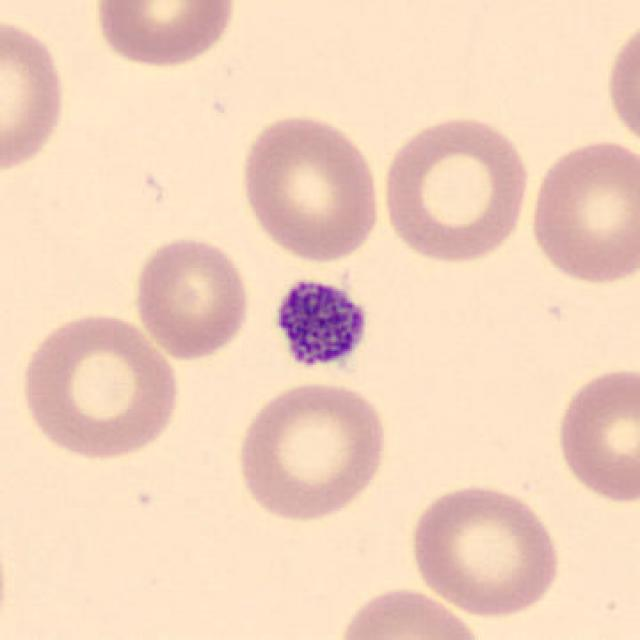Platelets: (267, 272, 373, 379)
RBC: (16, 306, 185, 464), (377, 110, 533, 266), (231, 378, 393, 526), (234, 110, 386, 264), (406, 479, 566, 619), (524, 134, 638, 289), (128, 233, 254, 363), (551, 361, 638, 506), (0, 12, 71, 176), (89, 0, 240, 71), (332, 582, 489, 640), (602, 10, 640, 156)
